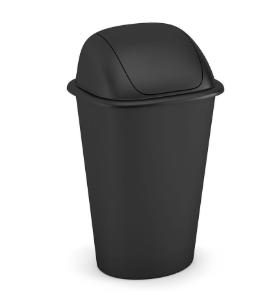garbage container: (65, 19, 227, 283)
